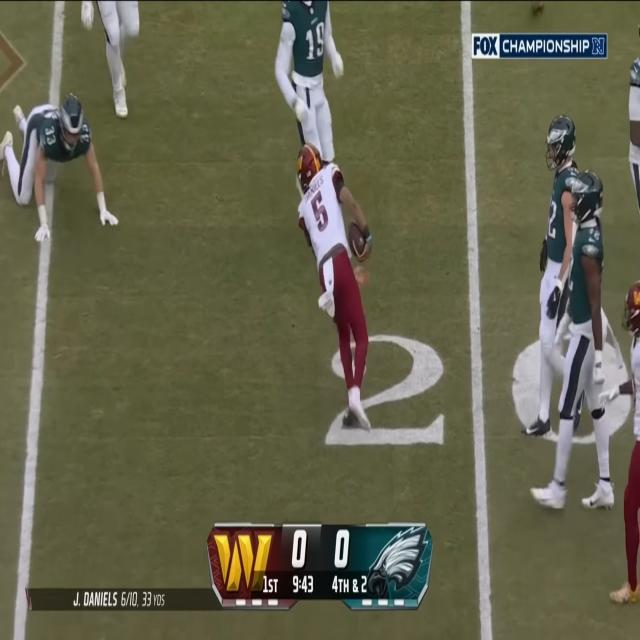Ball: (348, 218, 368, 260)
